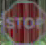Stop: (3, 0, 45, 42)
